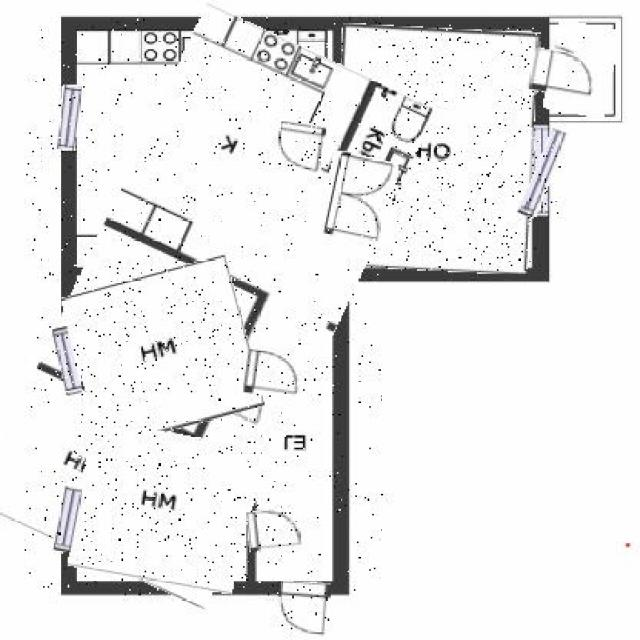door: (323, 154, 397, 243), (531, 51, 598, 95), (277, 582, 331, 636), (245, 352, 306, 398), (276, 121, 324, 174), (248, 510, 303, 552)
window: (528, 128, 560, 218), (55, 488, 80, 552), (57, 86, 80, 151), (57, 328, 78, 395)
zone: (25, 17, 383, 595), (336, 26, 538, 272), (71, 264, 255, 438), (74, 428, 251, 588), (546, 21, 617, 117)
